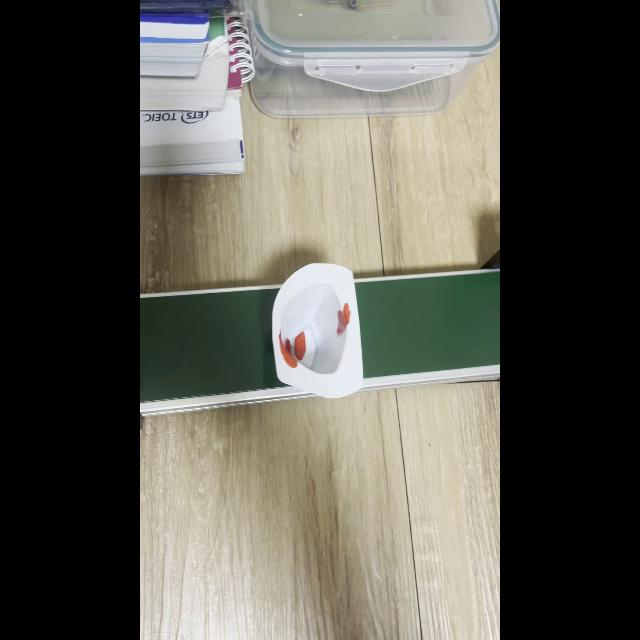dirty: (271, 263, 363, 397)
